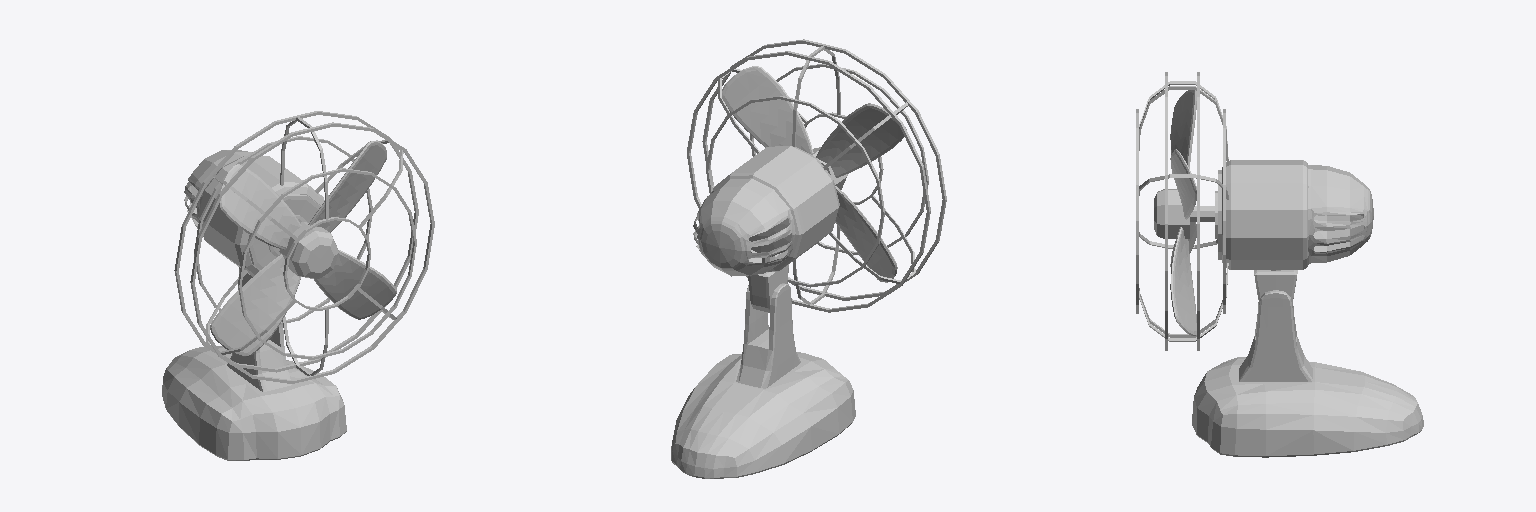
The model's file is Fan.obj.
3 views of the same model, side by side, from view 1: azimuth 30°, elevation 25°; view 2: azimuth 150°, elevation 25°; view 3: azimuth 270°, elevation 25° (orthographic).
Parts seen in each view (by area): view 1: FanB_Head_low, FanB_Base_low, FanB_Blades_low; view 2: FanB_Head_low, FanB_Base_low, FanB_Blades_low; view 3: FanB_Base_low, FanB_Head_low, FanB_Blades_low.
Part boxes in pixels (bbox=[...]): FanB_Head_low: bbox=[174, 111, 434, 383]; FanB_Base_low: bbox=[162, 267, 346, 460]; FanB_Blades_low: bbox=[210, 140, 396, 356]; FanB_Head_low: bbox=[687, 39, 946, 312]; FanB_Base_low: bbox=[671, 255, 855, 478]; FanB_Blades_low: bbox=[722, 66, 906, 282]; FanB_Base_low: bbox=[1192, 270, 1423, 457]; FanB_Head_low: bbox=[1136, 72, 1373, 350]; FanB_Blades_low: bbox=[1154, 90, 1196, 335].
Size of the model in its own units: 12.67 by 16.89 by 13.05.